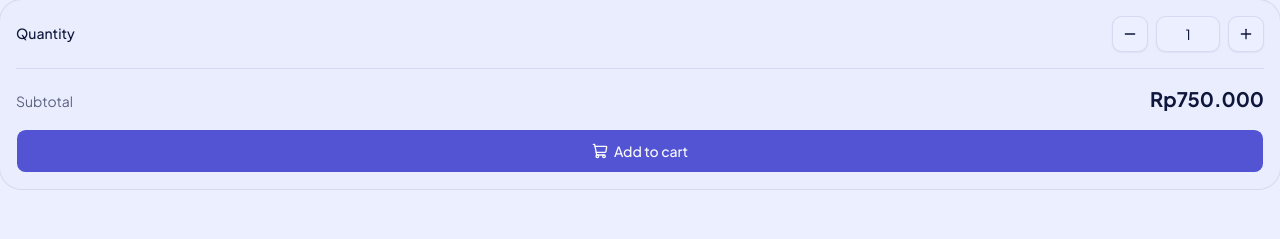
Scenario: PurchasePanel - quantity › quantity pecahan ditolak
The image size is (1280, 239).
Replace the text in the number field labelled "Quantity" with "1.5" at (1188, 34), box [1156,16,1220,52]
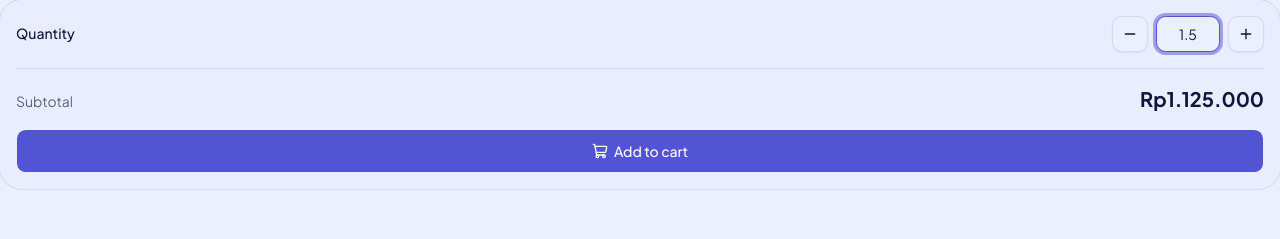
Click the button "Add to cart" at (640, 151), box [16,129,1264,173]
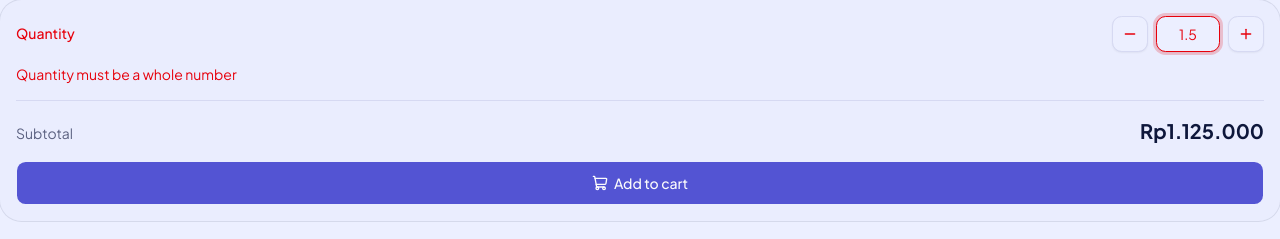
Expected: the text "Quantity must be a whole number" is shown, [16,65,237,83]
